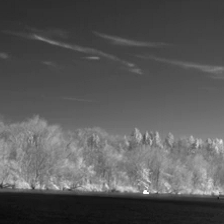Target: (142, 189, 150, 195)
